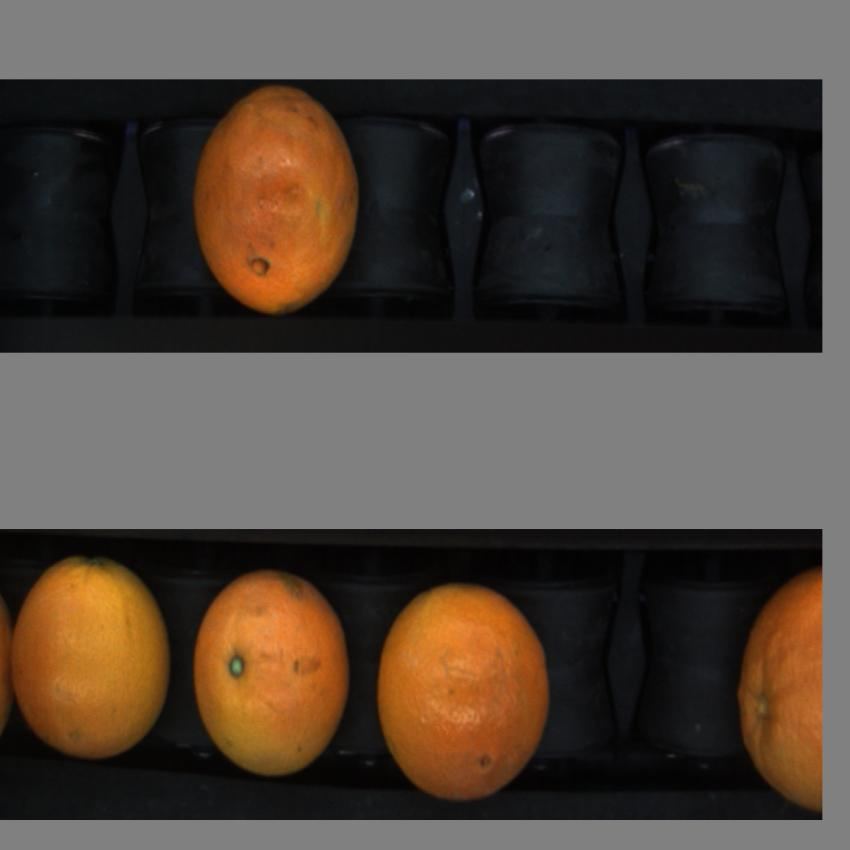Buen estado: (375, 578, 566, 808), (187, 564, 355, 784), (10, 563, 175, 766), (728, 567, 822, 810)
Mal estado: (190, 88, 357, 319)
